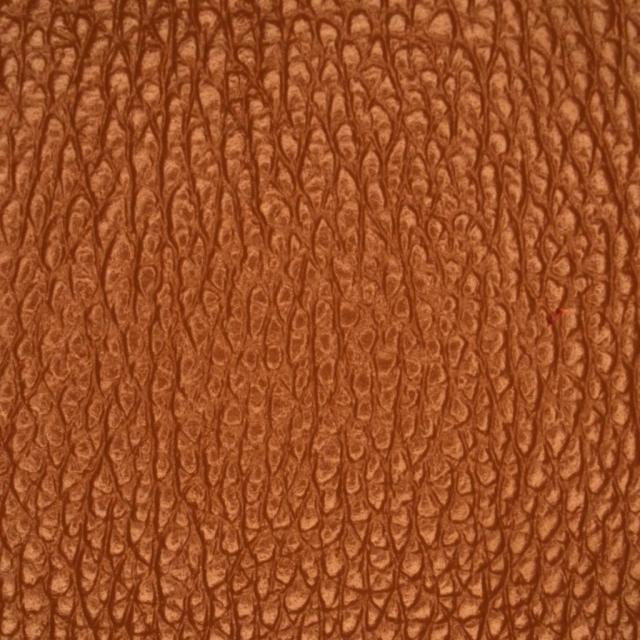Bacterial Injury: (487, 259, 626, 376)
